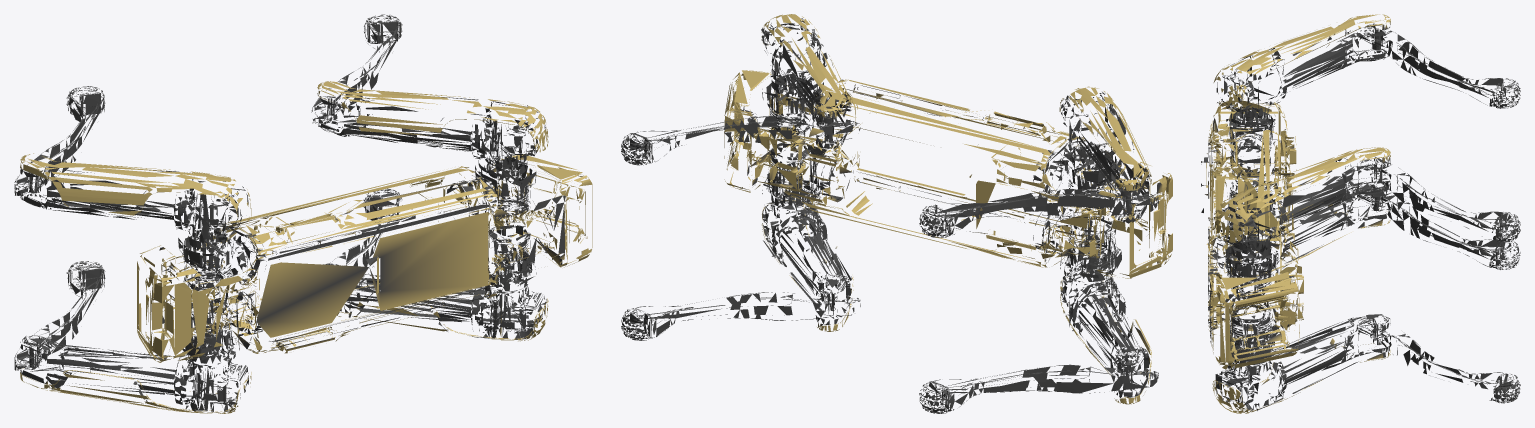
Rendered from spot.glb.
3 views of the same model, side by side, from view 1: azimuth 30°, elevation 25°; view 2: azimuth 150°, elevation 25°; view 3: azimuth 270°, elevation 25° (orthographic). The views are drawn at different scales.
Visible parts, largest first — view 1: body, rear_left_upper_leg, front_left_upper_leg, rear_right_upper_leg, front_right_upper_leg, rear_left_hip, rear_right_lower_leg, rear_left_lower_leg, front_left_hip, front_left_lower_leg, rear_right_hip, front_right_hip (+1 smaller); view 2: body, rear_left_upper_leg, front_left_upper_leg, rear_right_upper_leg, front_right_upper_leg, rear_left_lower_leg, rear_right_lower_leg, front_left_lower_leg, front_right_lower_leg, rear_right_hip, front_right_hip, rear_left_hip (+1 smaller); view 3: body, front_left_upper_leg, rear_left_upper_leg, front_right_upper_leg, rear_right_upper_leg, rear_left_lower_leg, rear_right_lower_leg, front_left_lower_leg, front_right_lower_leg, front_right_hip, front_left_hip, rear_left_hip (+1 smaller).
Boxes of the visible parts, x1,y1,x2,y2 form: body: (137,154,592,362); rear_left_upper_leg: (20,153,251,252); front_left_upper_leg: (317,81,548,180); rear_right_upper_leg: (20,335,251,413); front_right_upper_leg: (323,263,548,341); rear_left_hip: (178,223,266,290); rear_right_lower_leg: (14,261,105,370); rear_left_lower_leg: (14,86,105,195); front_left_hip: (448,155,536,218); front_left_lower_leg: (311,14,402,123); rear_right_hip: (182,291,262,363); front_right_hip: (484,225,536,293); body: (724,70,1172,278); rear_left_upper_leg: (1059,86,1151,223); front_left_upper_leg: (761,14,853,149); rear_right_upper_leg: (1060,259,1151,404); front_right_upper_leg: (762,180,853,331); rear_left_lower_leg: (919,189,1158,237); rear_right_lower_leg: (919,364,1158,413); front_left_lower_leg: (621,116,860,165); front_right_lower_leg: (621,292,860,340); rear_right_hip: (1033,209,1121,281); front_right_hip: (762,142,849,210); rear_left_hip: (1033,141,1121,208); body: (1201,100,1303,369); front_left_upper_leg: (1212,147,1390,262); rear_left_upper_leg: (1213,14,1390,129); front_right_upper_leg: (1212,314,1390,413); rear_right_upper_leg: (1214,181,1390,277); rear_left_lower_leg: (1357,23,1520,108); rear_right_lower_leg: (1357,184,1520,269); front_left_lower_leg: (1357,157,1520,242); front_right_lower_leg: (1356,318,1520,403); front_right_hip: (1229,292,1274,364); front_left_hip: (1225,235,1275,298); rear_left_hip: (1226,107,1275,179).
Bounding box in the file's own units: 0.9995 × 0.4488 × 0.6041.
